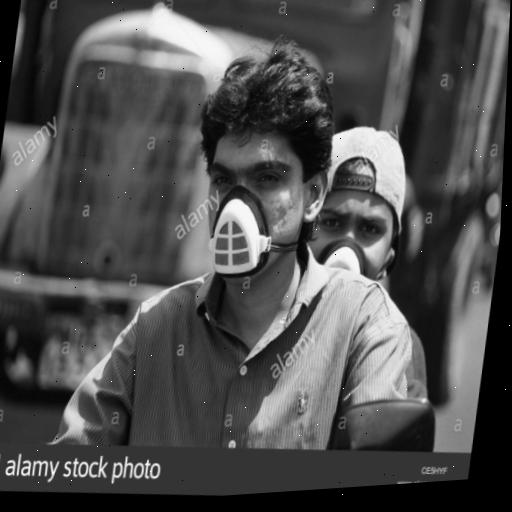mask: (175, 34, 348, 298), (303, 119, 418, 313)
